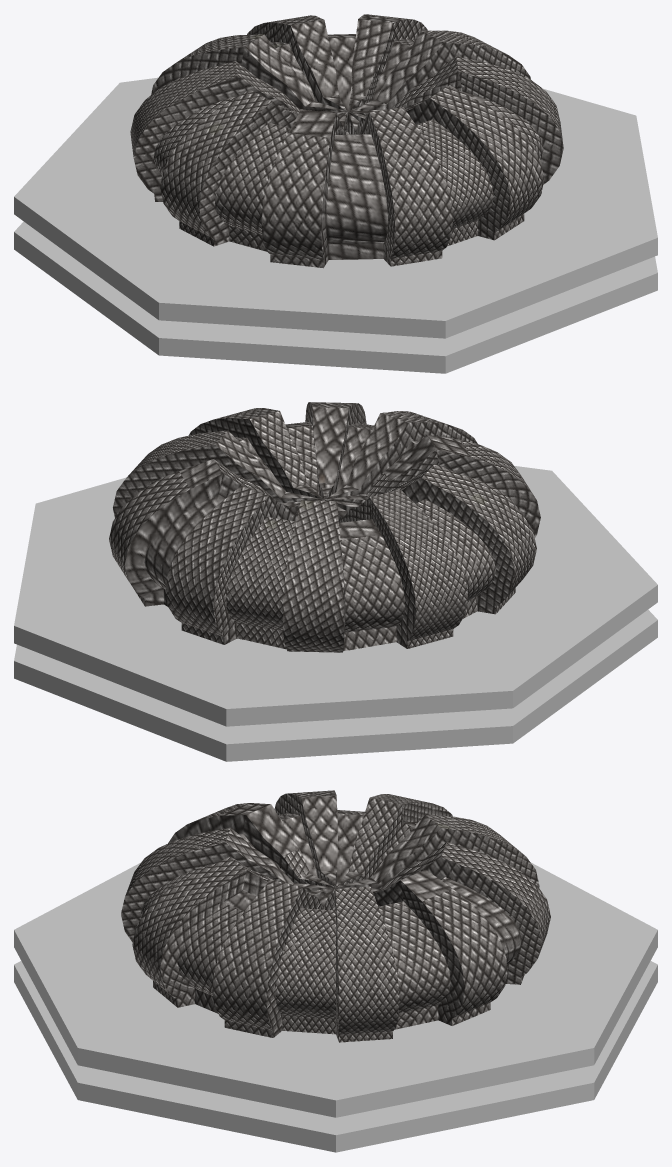
Rendered from button.fbx.
3 views of the same model, one above another, from view 1: azimuth 30°, elevation 25°; view 2: azimuth 150°, elevation 25°; view 3: azimuth 270°, elevation 25° (orthographic).
Parts seen in each view (by area): view 1: pCylinder1, pSphere1; view 2: pCylinder1, pSphere1; view 3: pCylinder1, pSphere1.
Boxes of the visible parts, bbox=[...] form: pCylinder1: bbox=[14, 77, 657, 373]; pSphere1: bbox=[130, 14, 563, 268]; pCylinder1: bbox=[14, 466, 657, 761]; pSphere1: bbox=[109, 402, 540, 652]; pCylinder1: bbox=[14, 862, 657, 1152]; pSphere1: bbox=[121, 790, 550, 1042].
Size of the model in its own units: 17.45 by 5.24 by 17.9.
